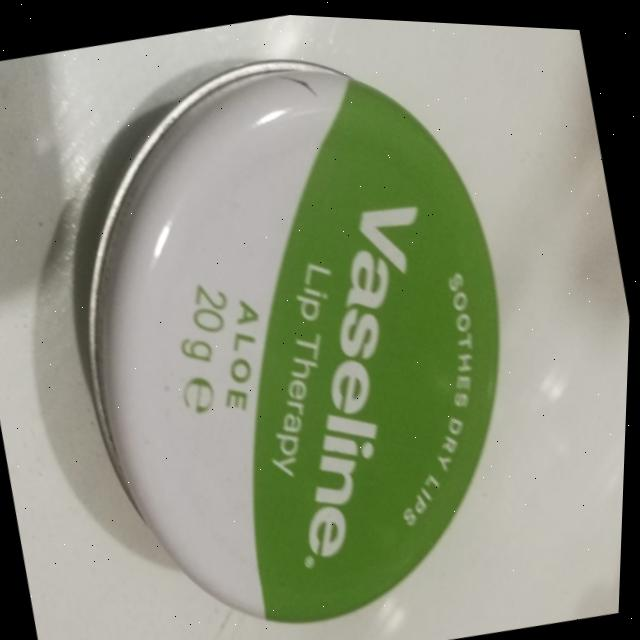lip balm: (1, 1, 604, 640)
